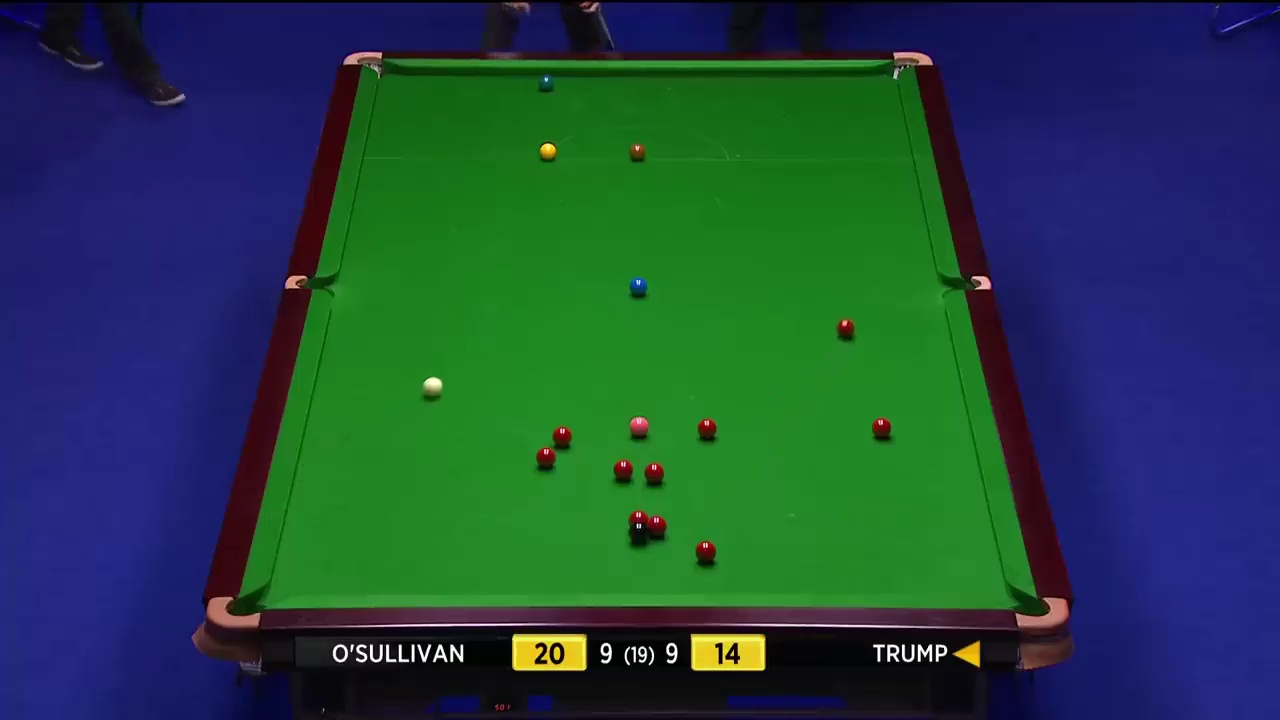ball: (624, 519, 648, 546), (420, 375, 445, 398), (693, 540, 715, 566), (533, 445, 556, 469), (834, 314, 857, 337), (628, 137, 646, 164), (537, 69, 558, 91), (871, 417, 892, 439), (613, 457, 632, 481), (627, 416, 648, 437), (644, 460, 662, 484), (537, 139, 558, 159), (696, 418, 716, 439), (553, 425, 573, 445), (628, 275, 647, 296)
